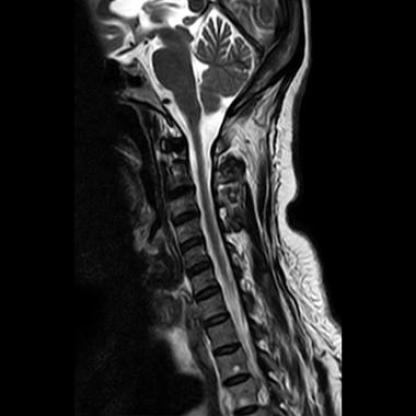Disc Bulgerotation: (184, 263, 212, 277)
